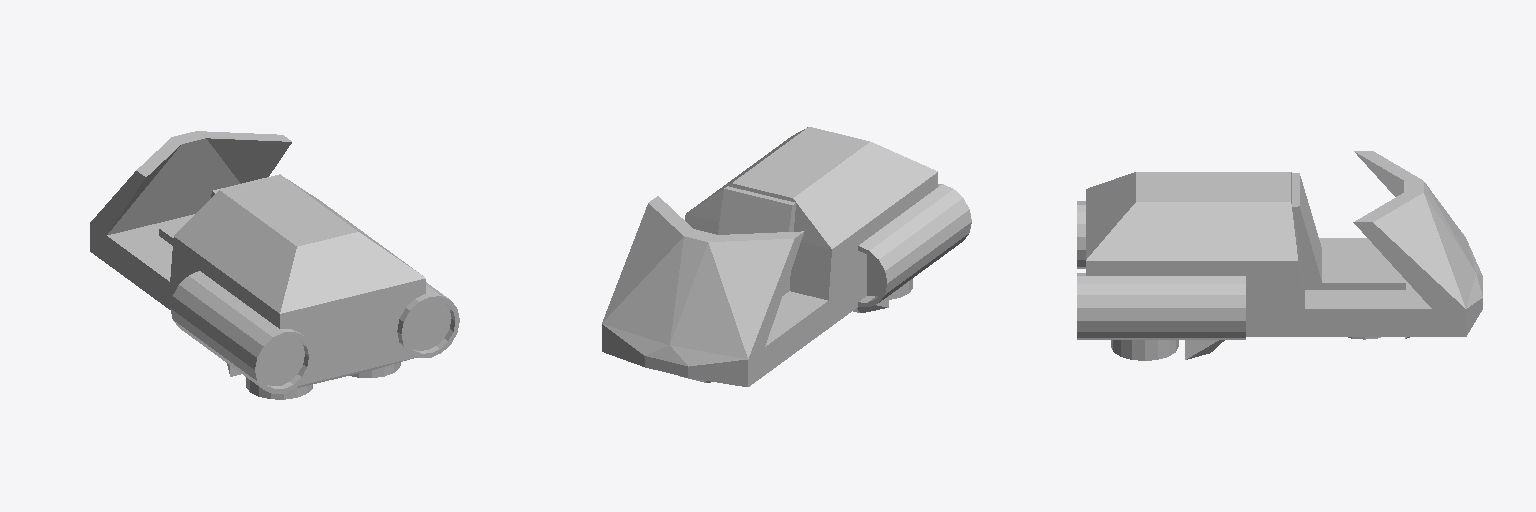
The model's file is hovercraft.obj.
3 views of the same model, side by side, from view 1: azimuth 30°, elevation 25°; view 2: azimuth 150°, elevation 25°; view 3: azimuth 270°, elevation 25° (orthographic).
Visible parts, largest first — view 1: Cube_Cube.001, Cylinder.001_Cylinder, Cylinder, Cylinder.003_Cylinder.001; view 2: Cube_Cube.001, Cylinder.001_Cylinder, Cube.005_Cube.004; view 3: Cube_Cube.001, Cylinder, Cube.005_Cube.004, Cylinder.004_Cylinder.001, Cylinder.001_Cylinder, Cube.003.
Boxes of the visible parts, <box> form: Cube_Cube.001: <box>90,131,425,387</box>; Cylinder.001_Cylinder: <box>170,271,312,393</box>; Cylinder: <box>397,282,459,357</box>; Cylinder.003_Cylinder.001: <box>246,377,312,399</box>; Cube_Cube.001: <box>602,127,937,386</box>; Cylinder.001_Cylinder: <box>858,184,971,306</box>; Cube.005_Cube.004: <box>718,186,795,295</box>; Cube_Cube.001: <box>1086,151,1482,336</box>; Cylinder: <box>1077,273,1245,339</box>; Cube.005_Cube.004: <box>1292,173,1405,289</box>; Cylinder.004_Cylinder.001: <box>1111,340,1178,360</box>; Cylinder.001_Cylinder: <box>1077,201,1085,268</box>; Cube.003: <box>1185,340,1224,359</box>.
Bounding box in the file's own units: 2.1 × 1.36 × 3.6.